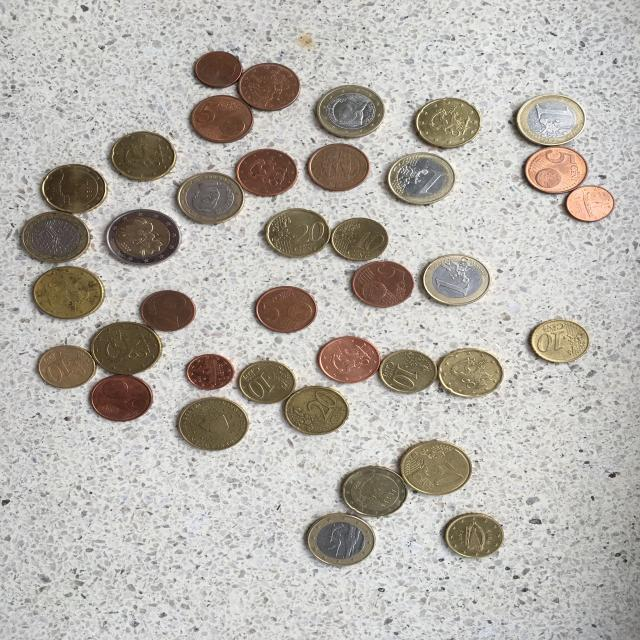10c: (528, 316, 590, 366), (443, 511, 505, 559), (378, 348, 438, 394), (37, 344, 97, 389), (238, 359, 296, 404), (329, 218, 388, 261)
1c: (564, 184, 614, 224), (194, 50, 244, 88), (186, 352, 234, 390)
1e: (305, 512, 377, 568), (514, 94, 588, 147), (316, 84, 385, 139), (176, 171, 246, 225), (421, 255, 492, 308), (388, 151, 456, 205), (22, 212, 90, 264)
20c: (413, 95, 483, 150), (108, 128, 178, 182), (338, 466, 412, 516), (284, 383, 350, 435), (41, 164, 108, 214), (264, 209, 330, 258), (440, 348, 503, 398)
2c: (138, 288, 198, 332)
2e: (104, 208, 180, 264)
50c: (398, 438, 474, 497), (174, 396, 250, 452), (90, 320, 162, 376), (34, 265, 105, 320)
5c: (86, 373, 156, 422), (188, 94, 254, 144), (316, 335, 382, 384), (307, 141, 370, 192), (238, 62, 302, 112), (234, 148, 298, 197), (351, 260, 416, 308), (255, 285, 319, 333), (524, 146, 588, 192)
